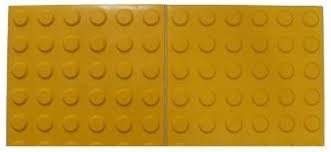guide_blocks: (9, 8, 322, 143)
